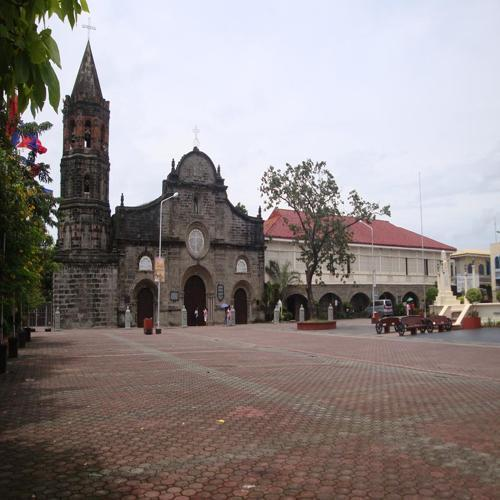Barasoain Church: (54, 13, 267, 331)
